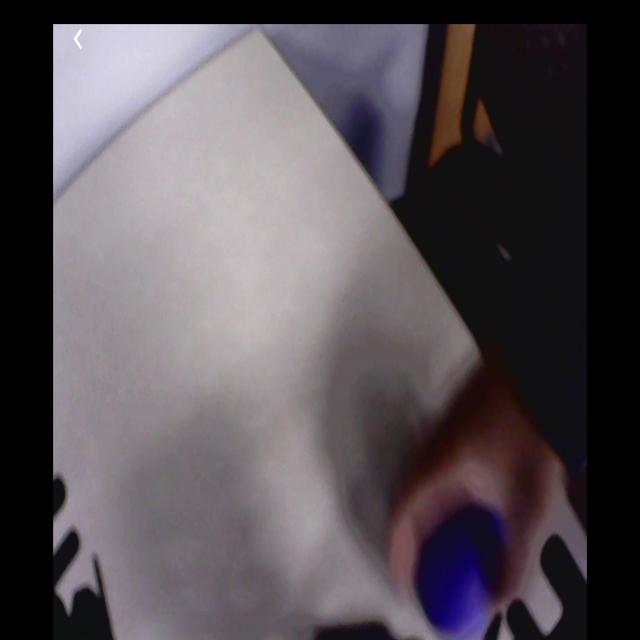ball: (416, 508, 509, 636)
